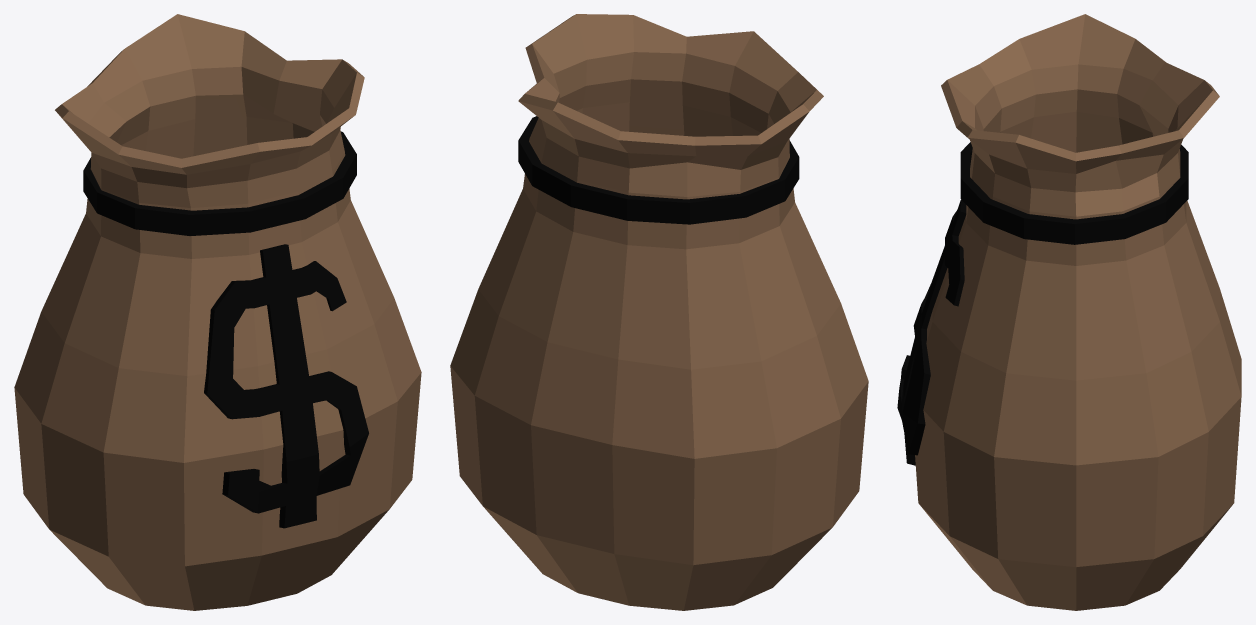
The model's file is PP_Money_Bag_Empty_01.fbx.
3 renders of one model, left to right at view 1: azimuth 30°, elevation 25°; view 2: azimuth 150°, elevation 25°; view 3: azimuth 270°, elevation 25°, orthographic. The views are drawn at different scales.
Parts seen in each view (by area): view 1: PP_Money_Bag_Empty_01; view 2: PP_Money_Bag_Empty_01; view 3: PP_Money_Bag_Empty_01.
Boxes of the visible parts, x1=… form: PP_Money_Bag_Empty_01: x1=14, y1=14, x2=421, y2=610; PP_Money_Bag_Empty_01: x1=450, y1=14, x2=868, y2=610; PP_Money_Bag_Empty_01: x1=897, y1=14, x2=1241, y2=610.
Bounding box in the file's own units: 57.18 × 75.1 × 48.76.
